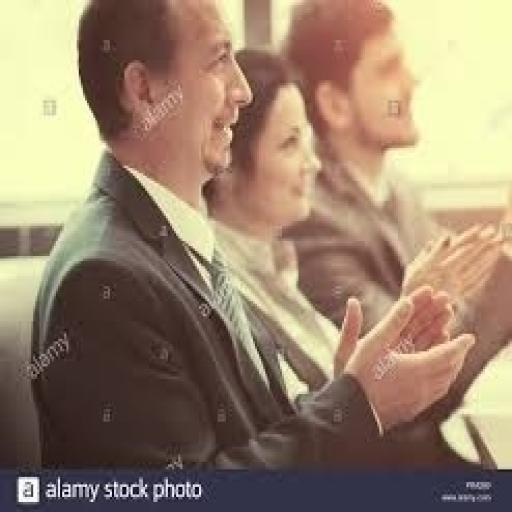clapping: (27, 0, 479, 472)
